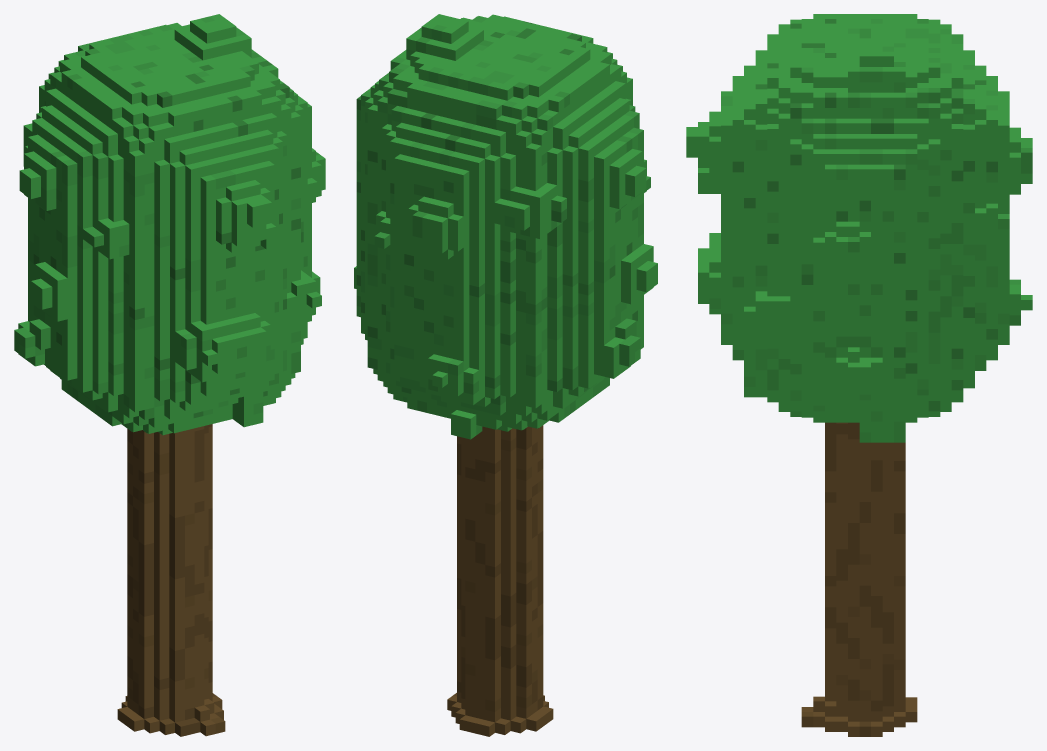
Rendered from Tree1.obj.
3 renders of one model, left to right at view 1: azimuth 30°, elevation 25°; view 2: azimuth 150°, elevation 25°; view 3: azimuth 270°, elevation 25°, orthographic. The views are drawn at different scales.
Size of the model in its own units: 2.9 by 6.6 by 3.
Materials: 1 (1 with a texture image).
